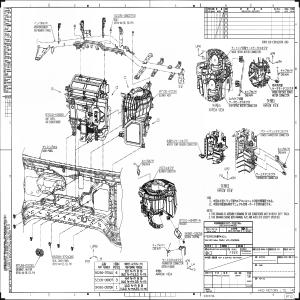PartNumber: (95, 285, 113, 290), (114, 14, 132, 18), (16, 264, 34, 268), (52, 254, 70, 258), (95, 278, 113, 282), (95, 271, 113, 275), (179, 218, 197, 222), (45, 113, 64, 116), (184, 232, 202, 235), (162, 265, 174, 268)
